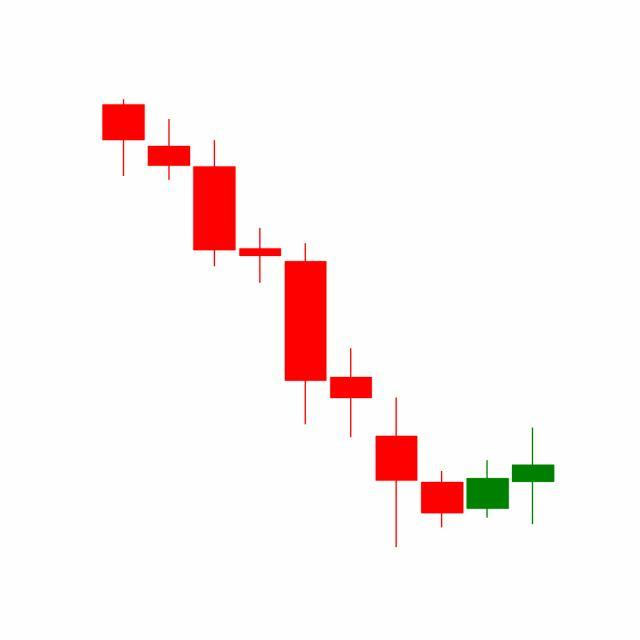Hikkake Pattern: (283, 239, 512, 549)
